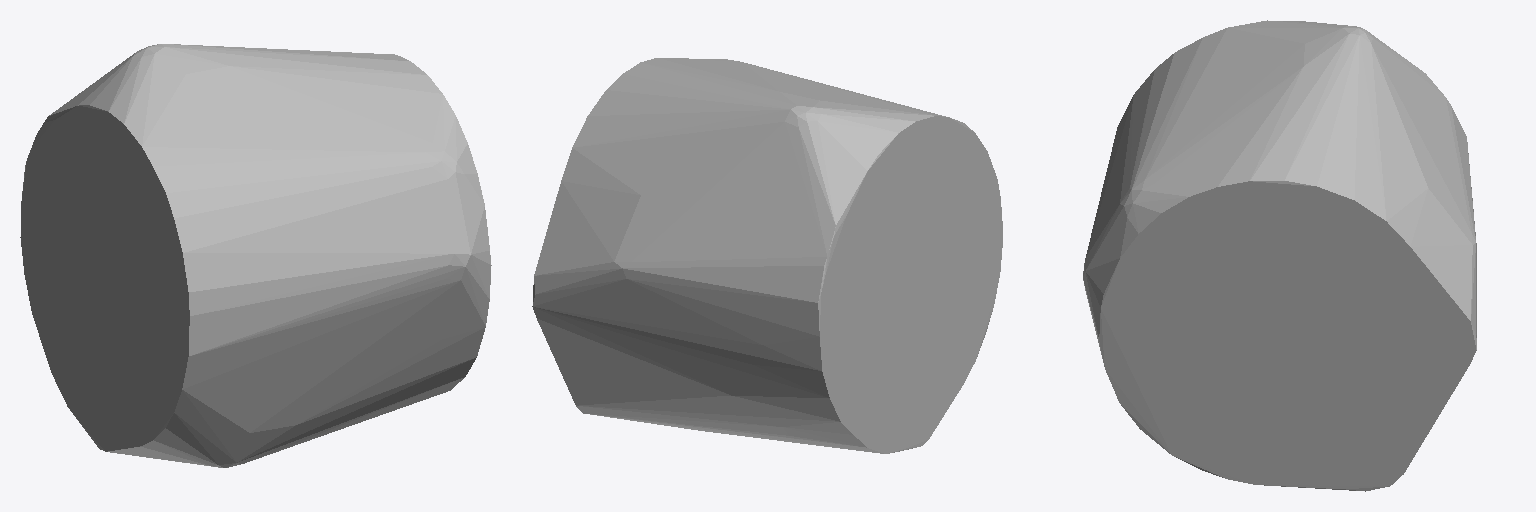
robot.urdf — root:
<robot name="root">
  <link name="link_thingiverse~tiki_cup_2169647_convex_piece_0">
    <inertial>
      <origin rpy="0 0 0" xyz="0 0 0"/>
      <mass value="2.04E-01"/>
      <inertia ixx="1.39E-04" ixy="4.49E-07" ixz="-1.61E-06" iyy="1.50E-04" iyz="5.88E-07" izz="1.49E-04"/>
    </inertial>
    <visual>
      <origin rpy="0 0 0" xyz="0 0 0"/>
      <geometry>
        <mesh filename="thingiverse~tiki_cup_2169647_convex_piece_0.obj" scale="1.0000E+00 1.0000E+00 1.0000E+00"/>
      </geometry>
      <material name="">
        <color rgba="7.50E-01 7.50E-01 7.50E-01 1"/>
      </material>
    </visual>
    <collision>
      <origin rpy="0 0 0" xyz="0 0 0"/>
      <geometry>
        <mesh filename="thingiverse~tiki_cup_2169647_convex_piece_0.obj" scale="1.0000E+00 1.0000E+00 1.0000E+00"/>
      </geometry>
    </collision>
  </link>
</robot>

--- What the picture shows (computed from the rendered views, not written in the file) ---
The picture shows the robot from 3 angles, left to right: view 1: azimuth 30°, elevation 25°; view 2: azimuth 150°, elevation 25°; view 3: azimuth 270°, elevation 25°; orthographic projection.
Model root with 1 links and 0 joints (none), rooted at link_thingiverse~tiki_cup_2169647_convex_piece_0, posed all joints at 0.
Visible links, largest first — view 1: link_thingiverse~tiki_cup_2169647_convex_piece_0; view 2: link_thingiverse~tiki_cup_2169647_convex_piece_0; view 3: link_thingiverse~tiki_cup_2169647_convex_piece_0.
Link boxes in pixels (x1,y1,x2,y2): link_thingiverse~tiki_cup_2169647_convex_piece_0: (20,44,491,467); link_thingiverse~tiki_cup_2169647_convex_piece_0: (532,58,1002,453); link_thingiverse~tiki_cup_2169647_convex_piece_0: (1083,20,1476,491).
Bounding box of the posed robot: 0.0713 × 0.0776 × 0.0789 m (x, y, z).
1 mesh visuals loaded from 1 distinct referenced files (1 OBJ).
